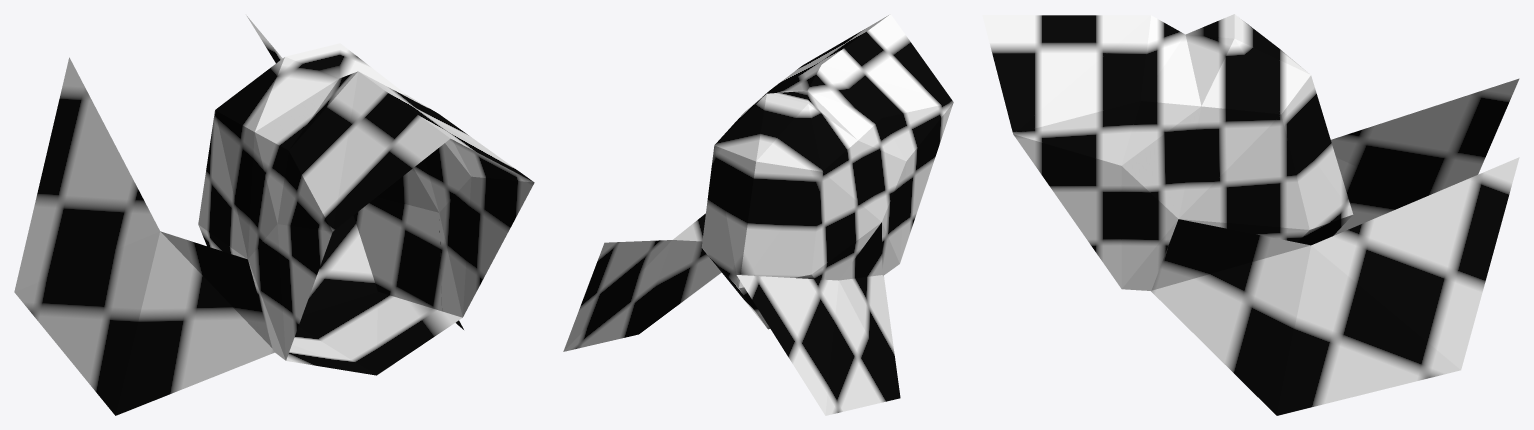
The model's file is initarhl3.dae.
3 views of the same model, side by side, from view 1: azimuth 30°, elevation 25°; view 2: azimuth 150°, elevation 25°; view 3: azimuth 270°, elevation 25° (orthographic). The views are drawn at different scales.
Parts seen in each view (by area): view 1: armor; view 2: armor; view 3: armor.
Boxes of the visible parts, box(x1,y1,x2,y2) form: armor: box(14, 15, 534, 415); armor: box(563, 14, 953, 415); armor: box(982, 14, 1519, 415).
Size of the model in its own units: 1.06 by 1.53 by 1.02.
1 material, 1 textured.
